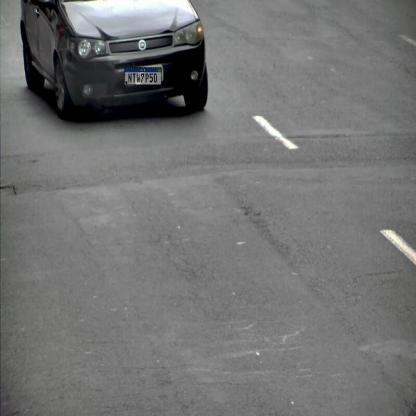PlacaM: (124, 68, 162, 86)
